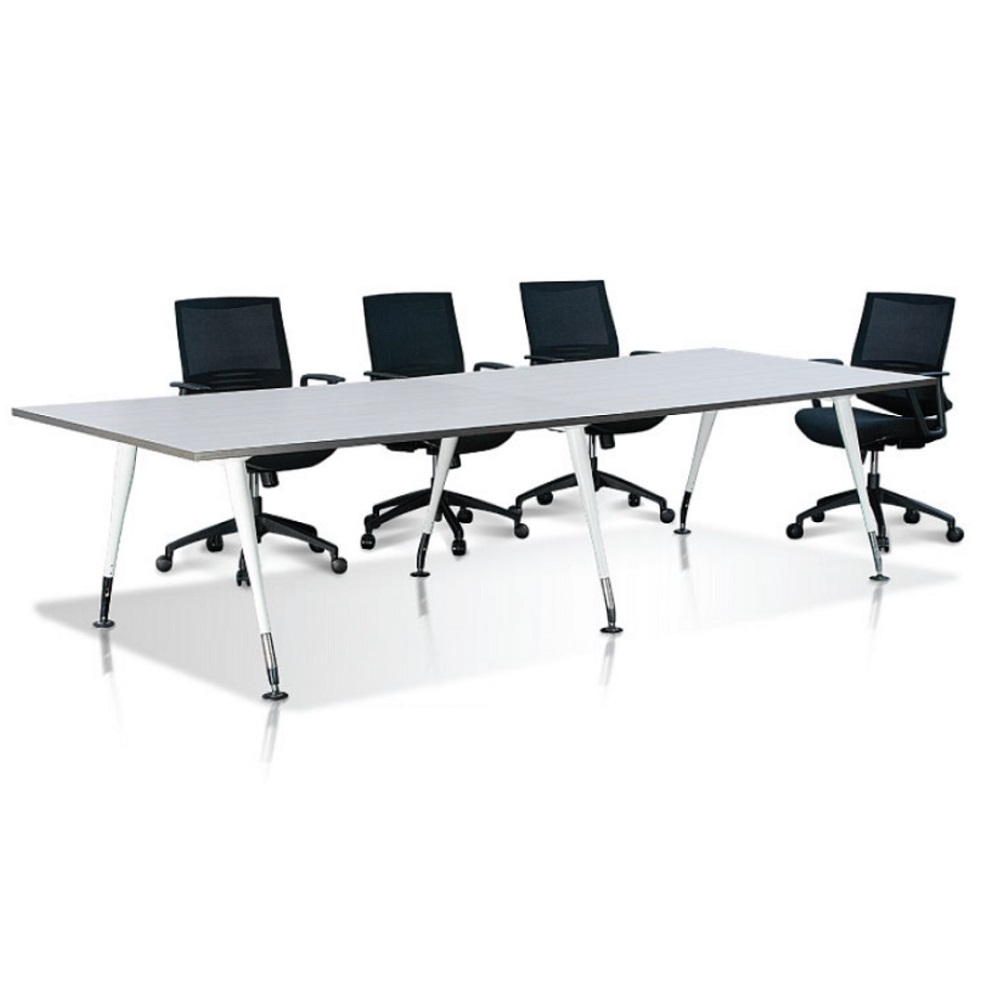conference_table: (12, 351, 939, 705)
